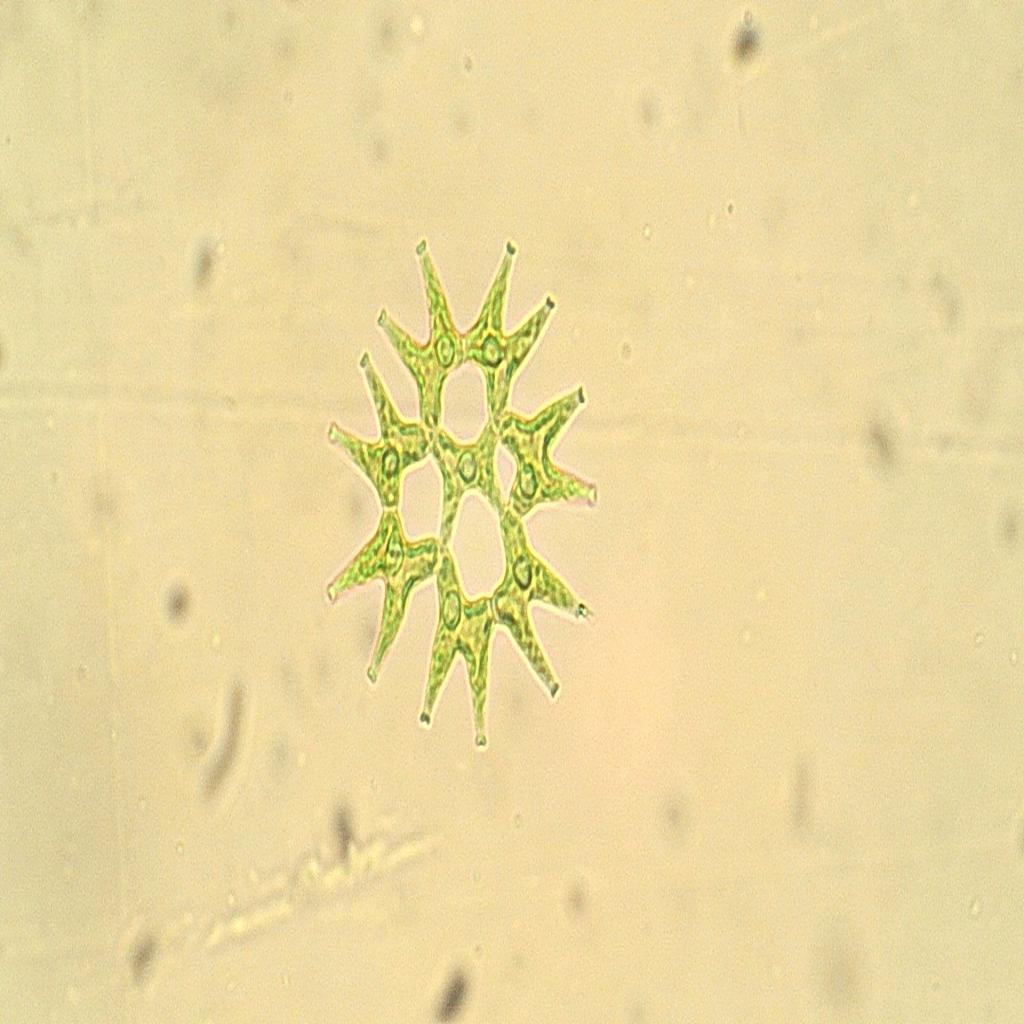Pediastrum_CTH: (319, 201, 606, 758)
